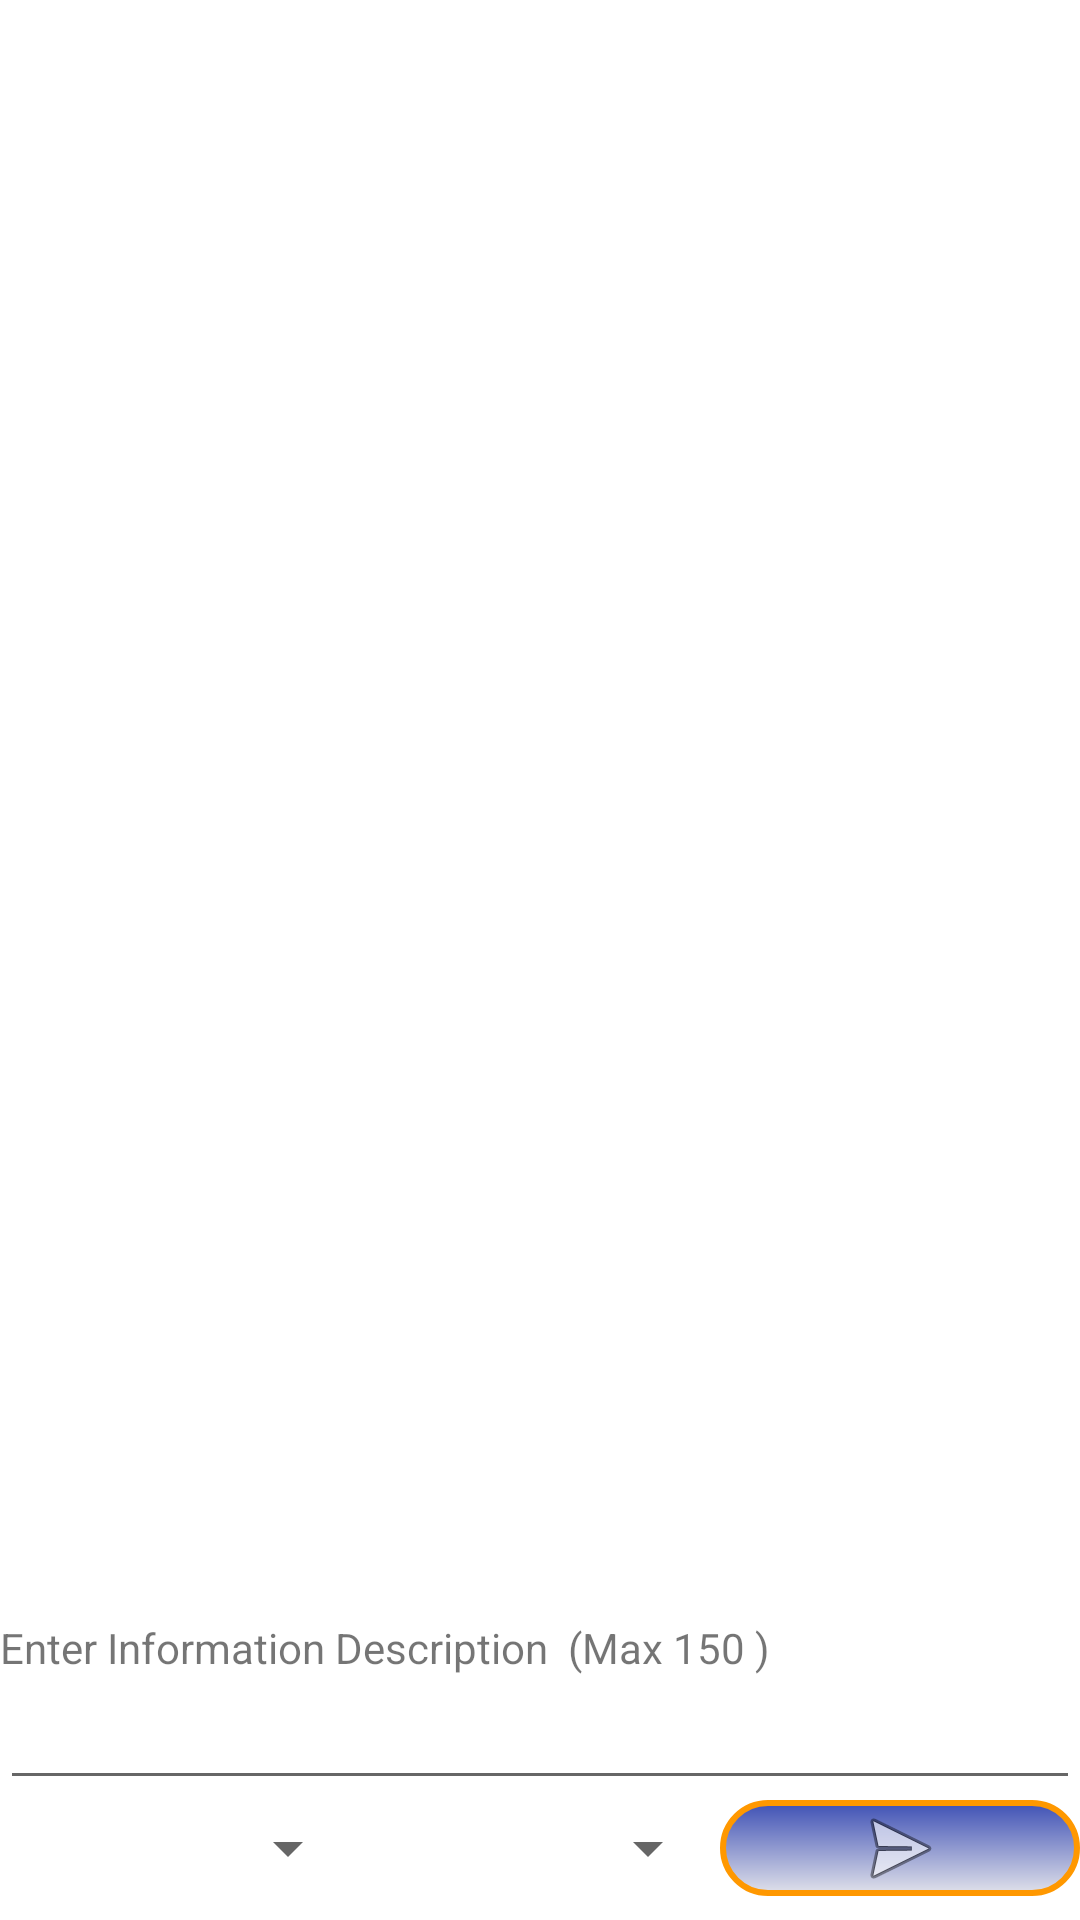

Where icons sit on this 1080 × 1920 app screen, as (x1, y1, x2, y2):
send: (720, 1800, 1080, 1896)
